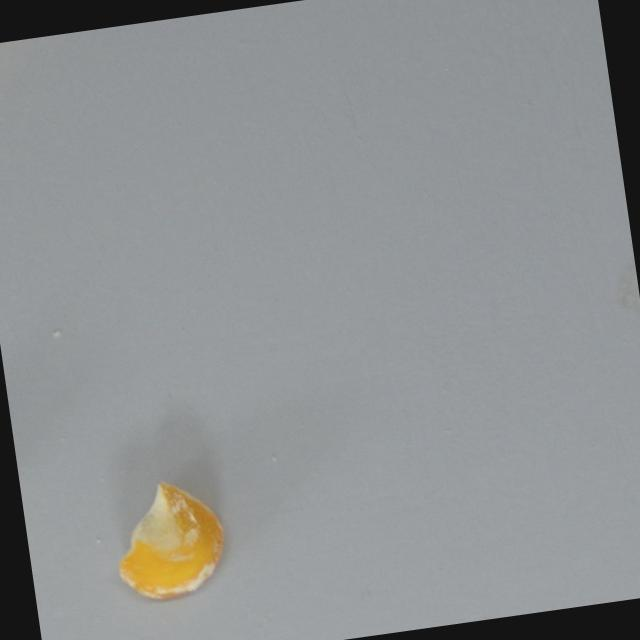pelicula: (105, 473, 236, 608)
